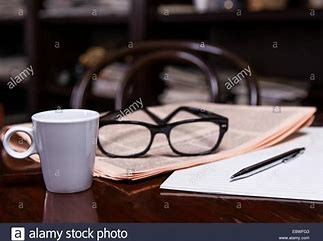pen: (224, 146, 303, 181)
